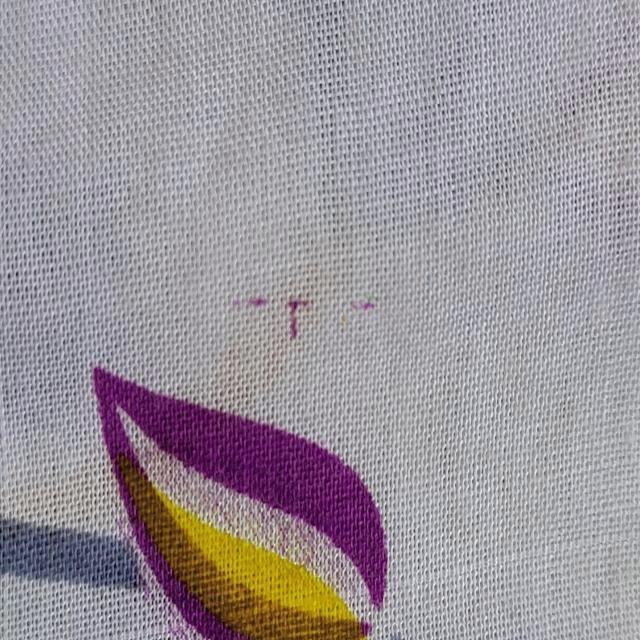stain: (235, 286, 382, 346)
